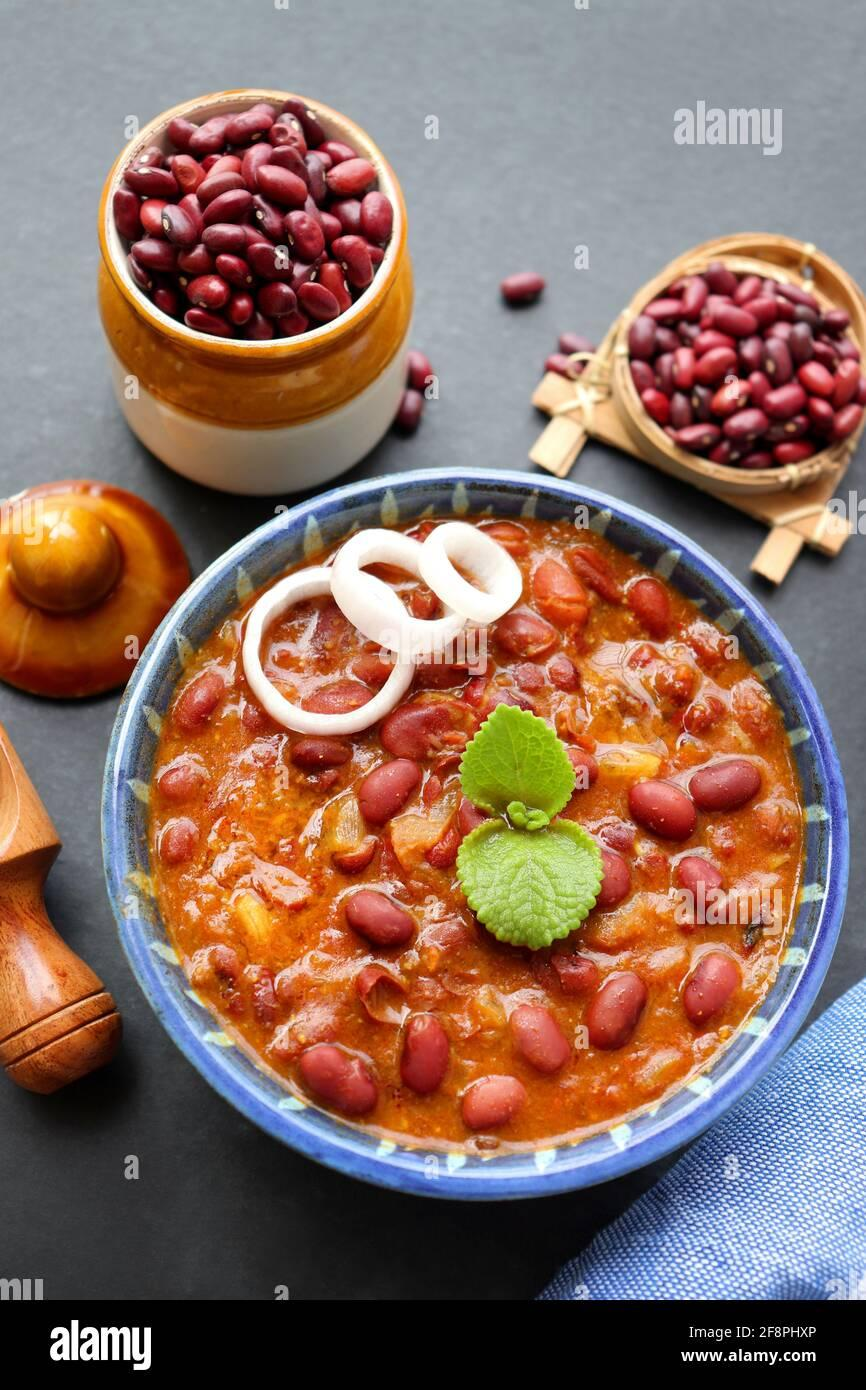rajma: (190, 540, 837, 1140)
